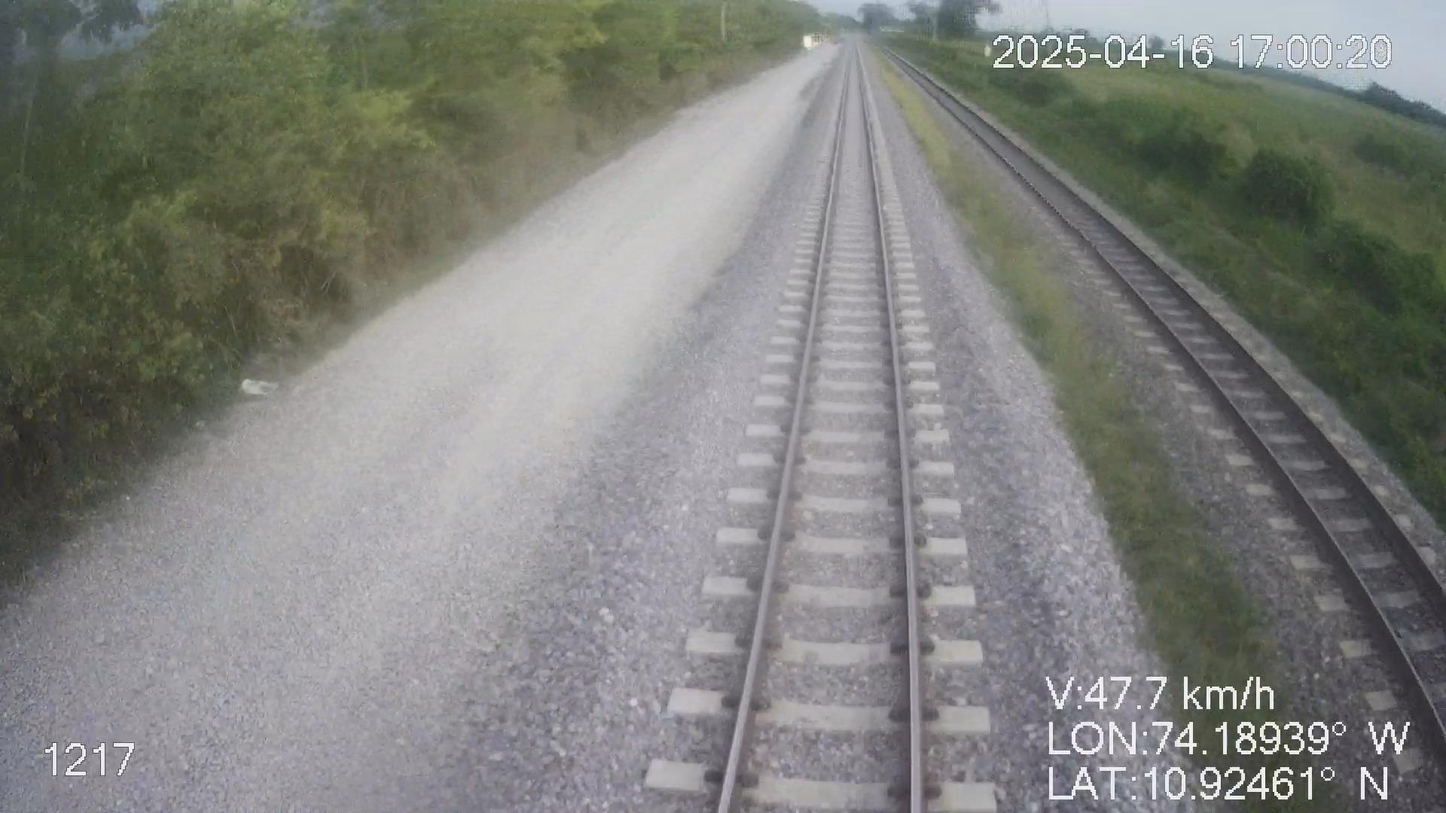Pasto: (0, 0, 839, 603), (873, 21, 1445, 562)
